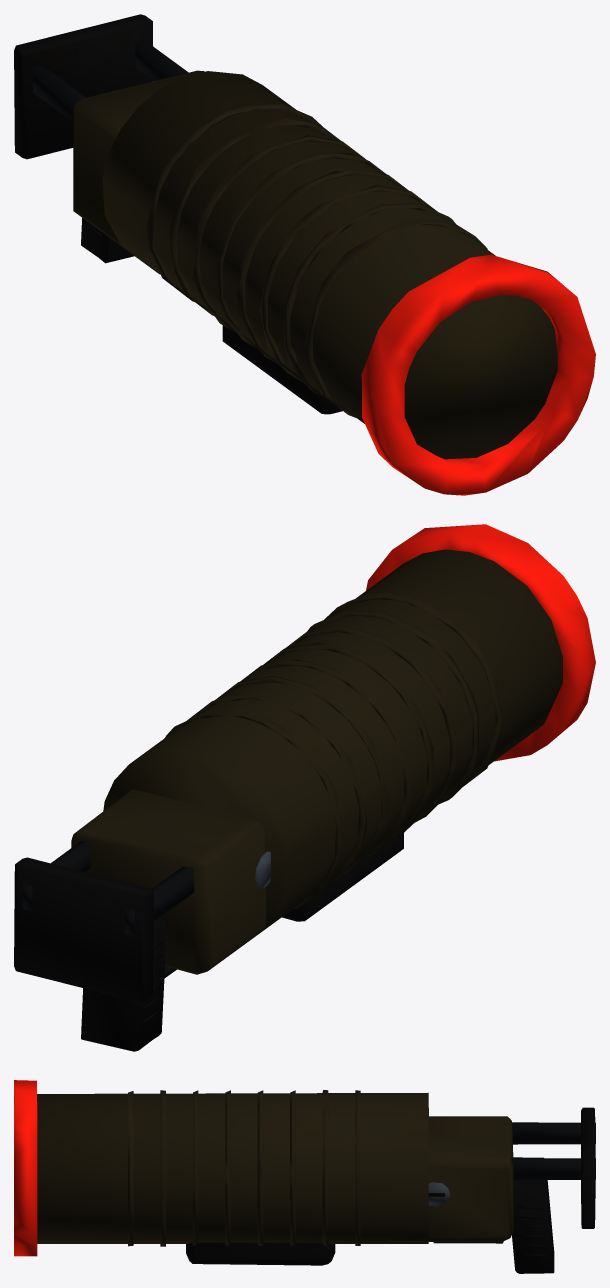
File: weapon_launcher.glb
3 views of the same model, one above another, from view 1: azimuth 30°, elevation 25°; view 2: azimuth 150°, elevation 25°; view 3: azimuth 270°, elevation 25° (orthographic). The views are drawn at different scales.
Visible parts, largest first — view 1: weapon_launcher; view 2: weapon_launcher; view 3: weapon_launcher.
Part boxes in pixels (left/top/right/bottom): weapon_launcher: left=14, top=14, right=595, bottom=495; weapon_launcher: left=14, top=524, right=595, bottom=1051; weapon_launcher: left=14, top=1080, right=595, bottom=1273.
Bounding box in the file's own units: 0.2796 × 0.2991 × 0.8968.
1 material, 1 textured.
